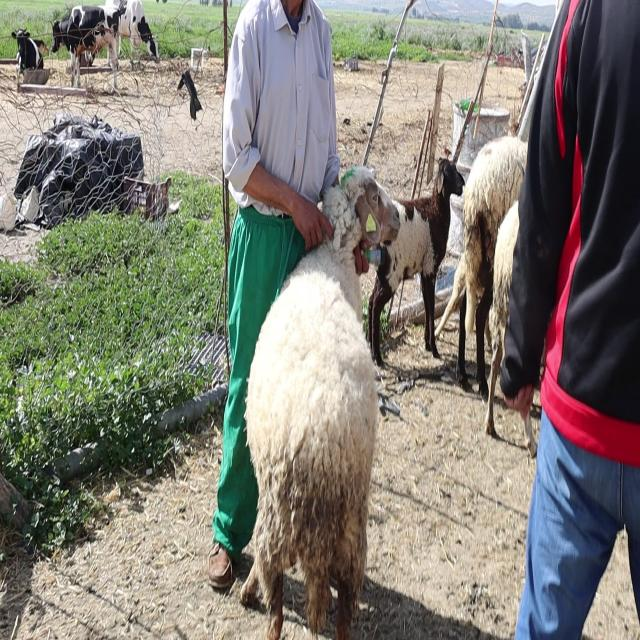Score_5: (240, 168, 405, 639)
